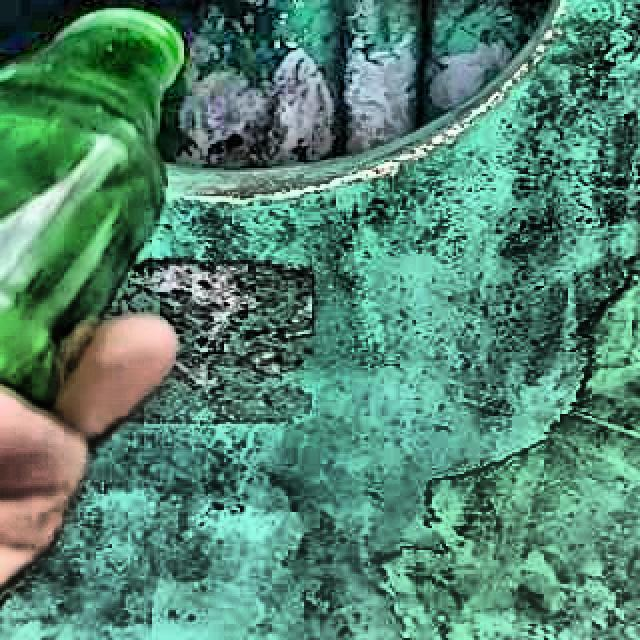glass: (0, 9, 181, 402)
